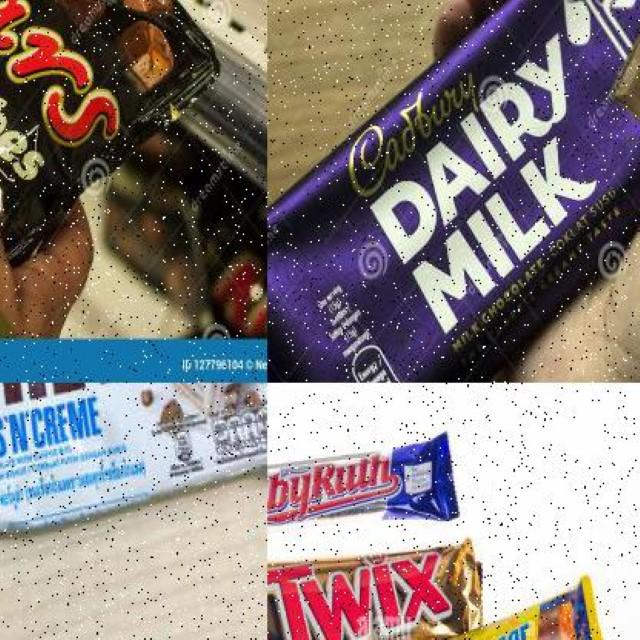cadbury_chocolate: (298, 0, 628, 381)
